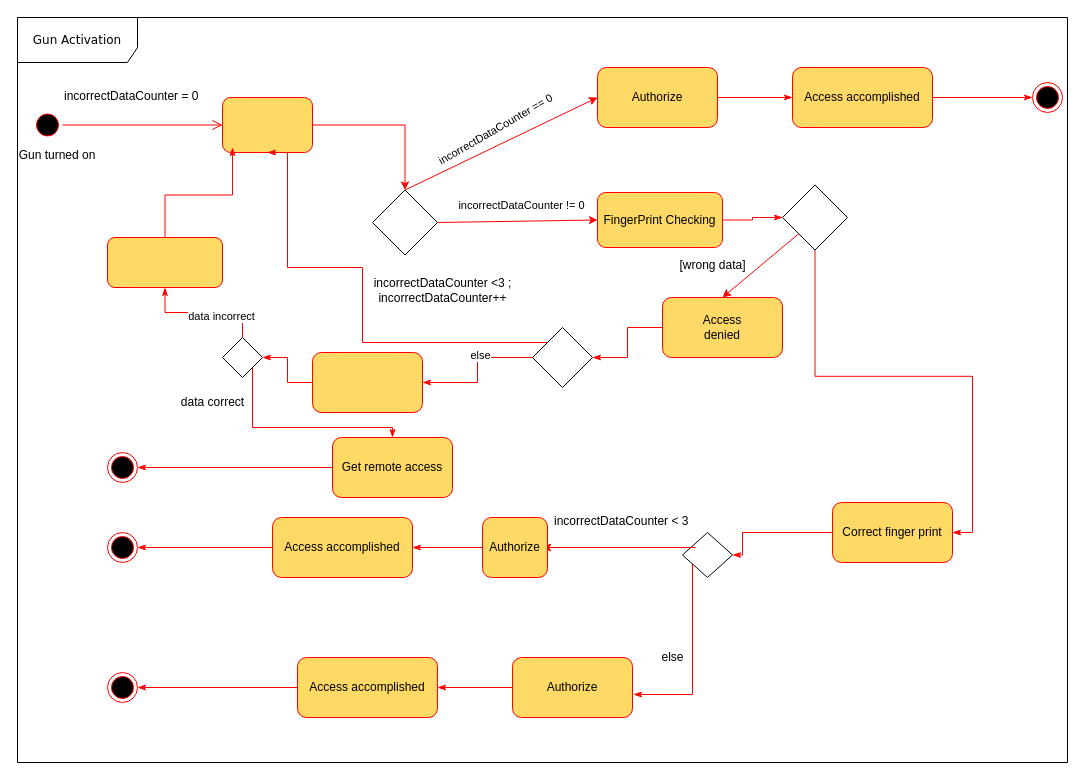
This 1085x780 diagram has some shape labels left out. Each missing label, with the centre of its shape:
"Message send to Local Distributor" belongs at point 367,382.
"System sleep for 5 minutes" belongs at point 164,262.
"takeFingerPrint" belongs at point 267,124.
